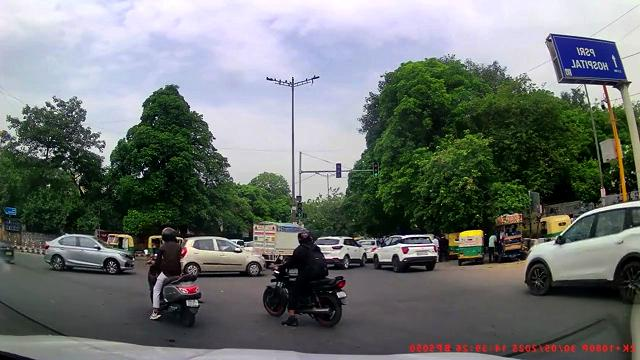motorcycle_with_helmet: (263, 229, 349, 328), (146, 226, 202, 327)
